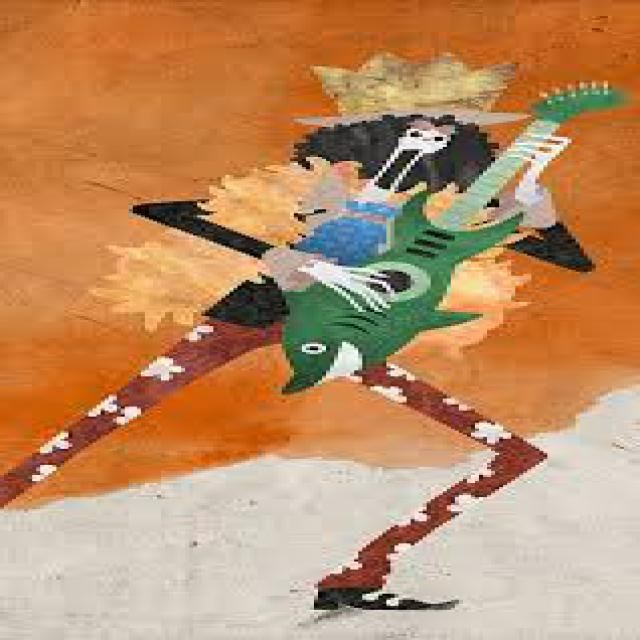Brook: (28, 52, 636, 612)
